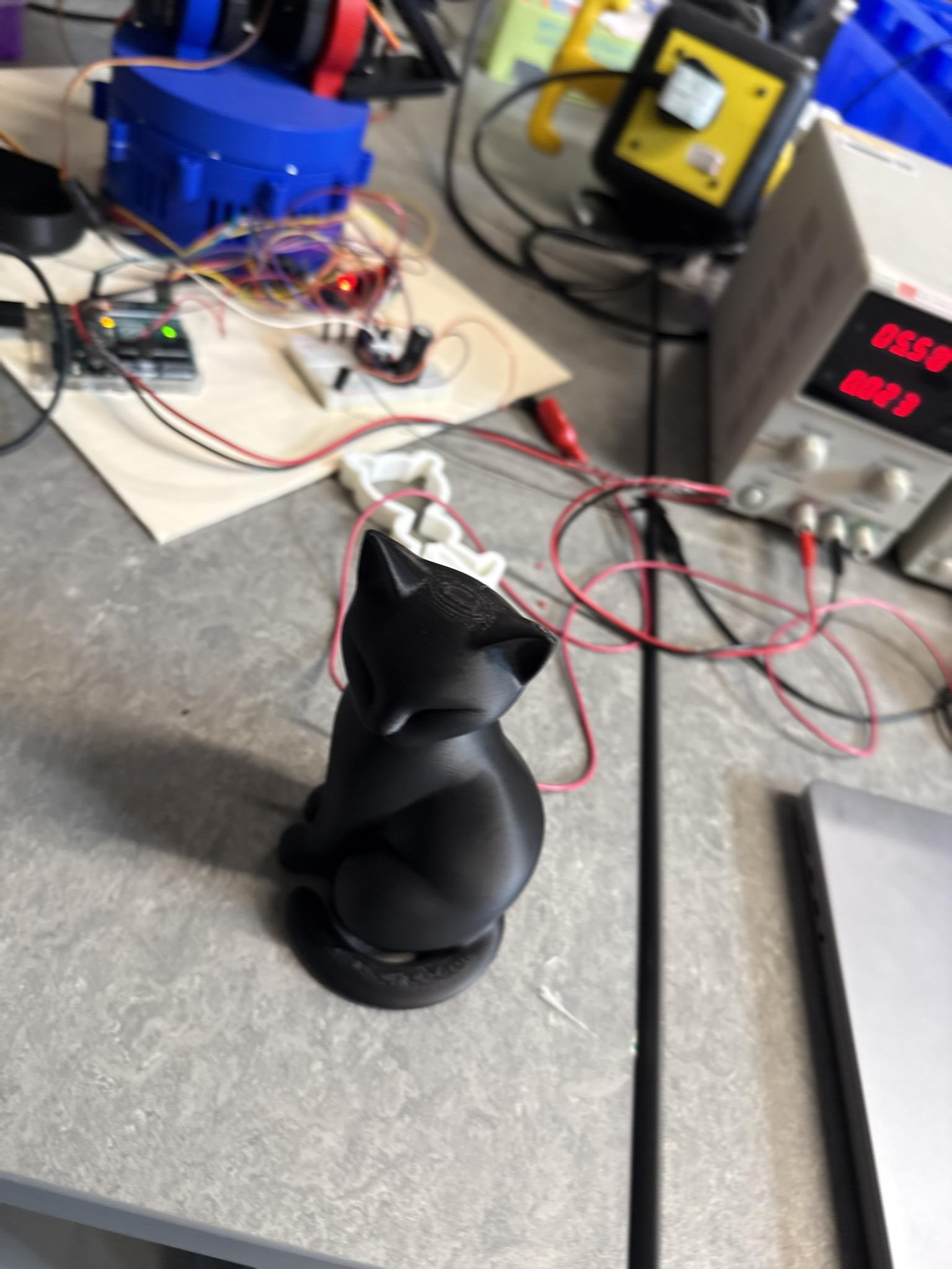cat: (279, 530, 554, 1009)
